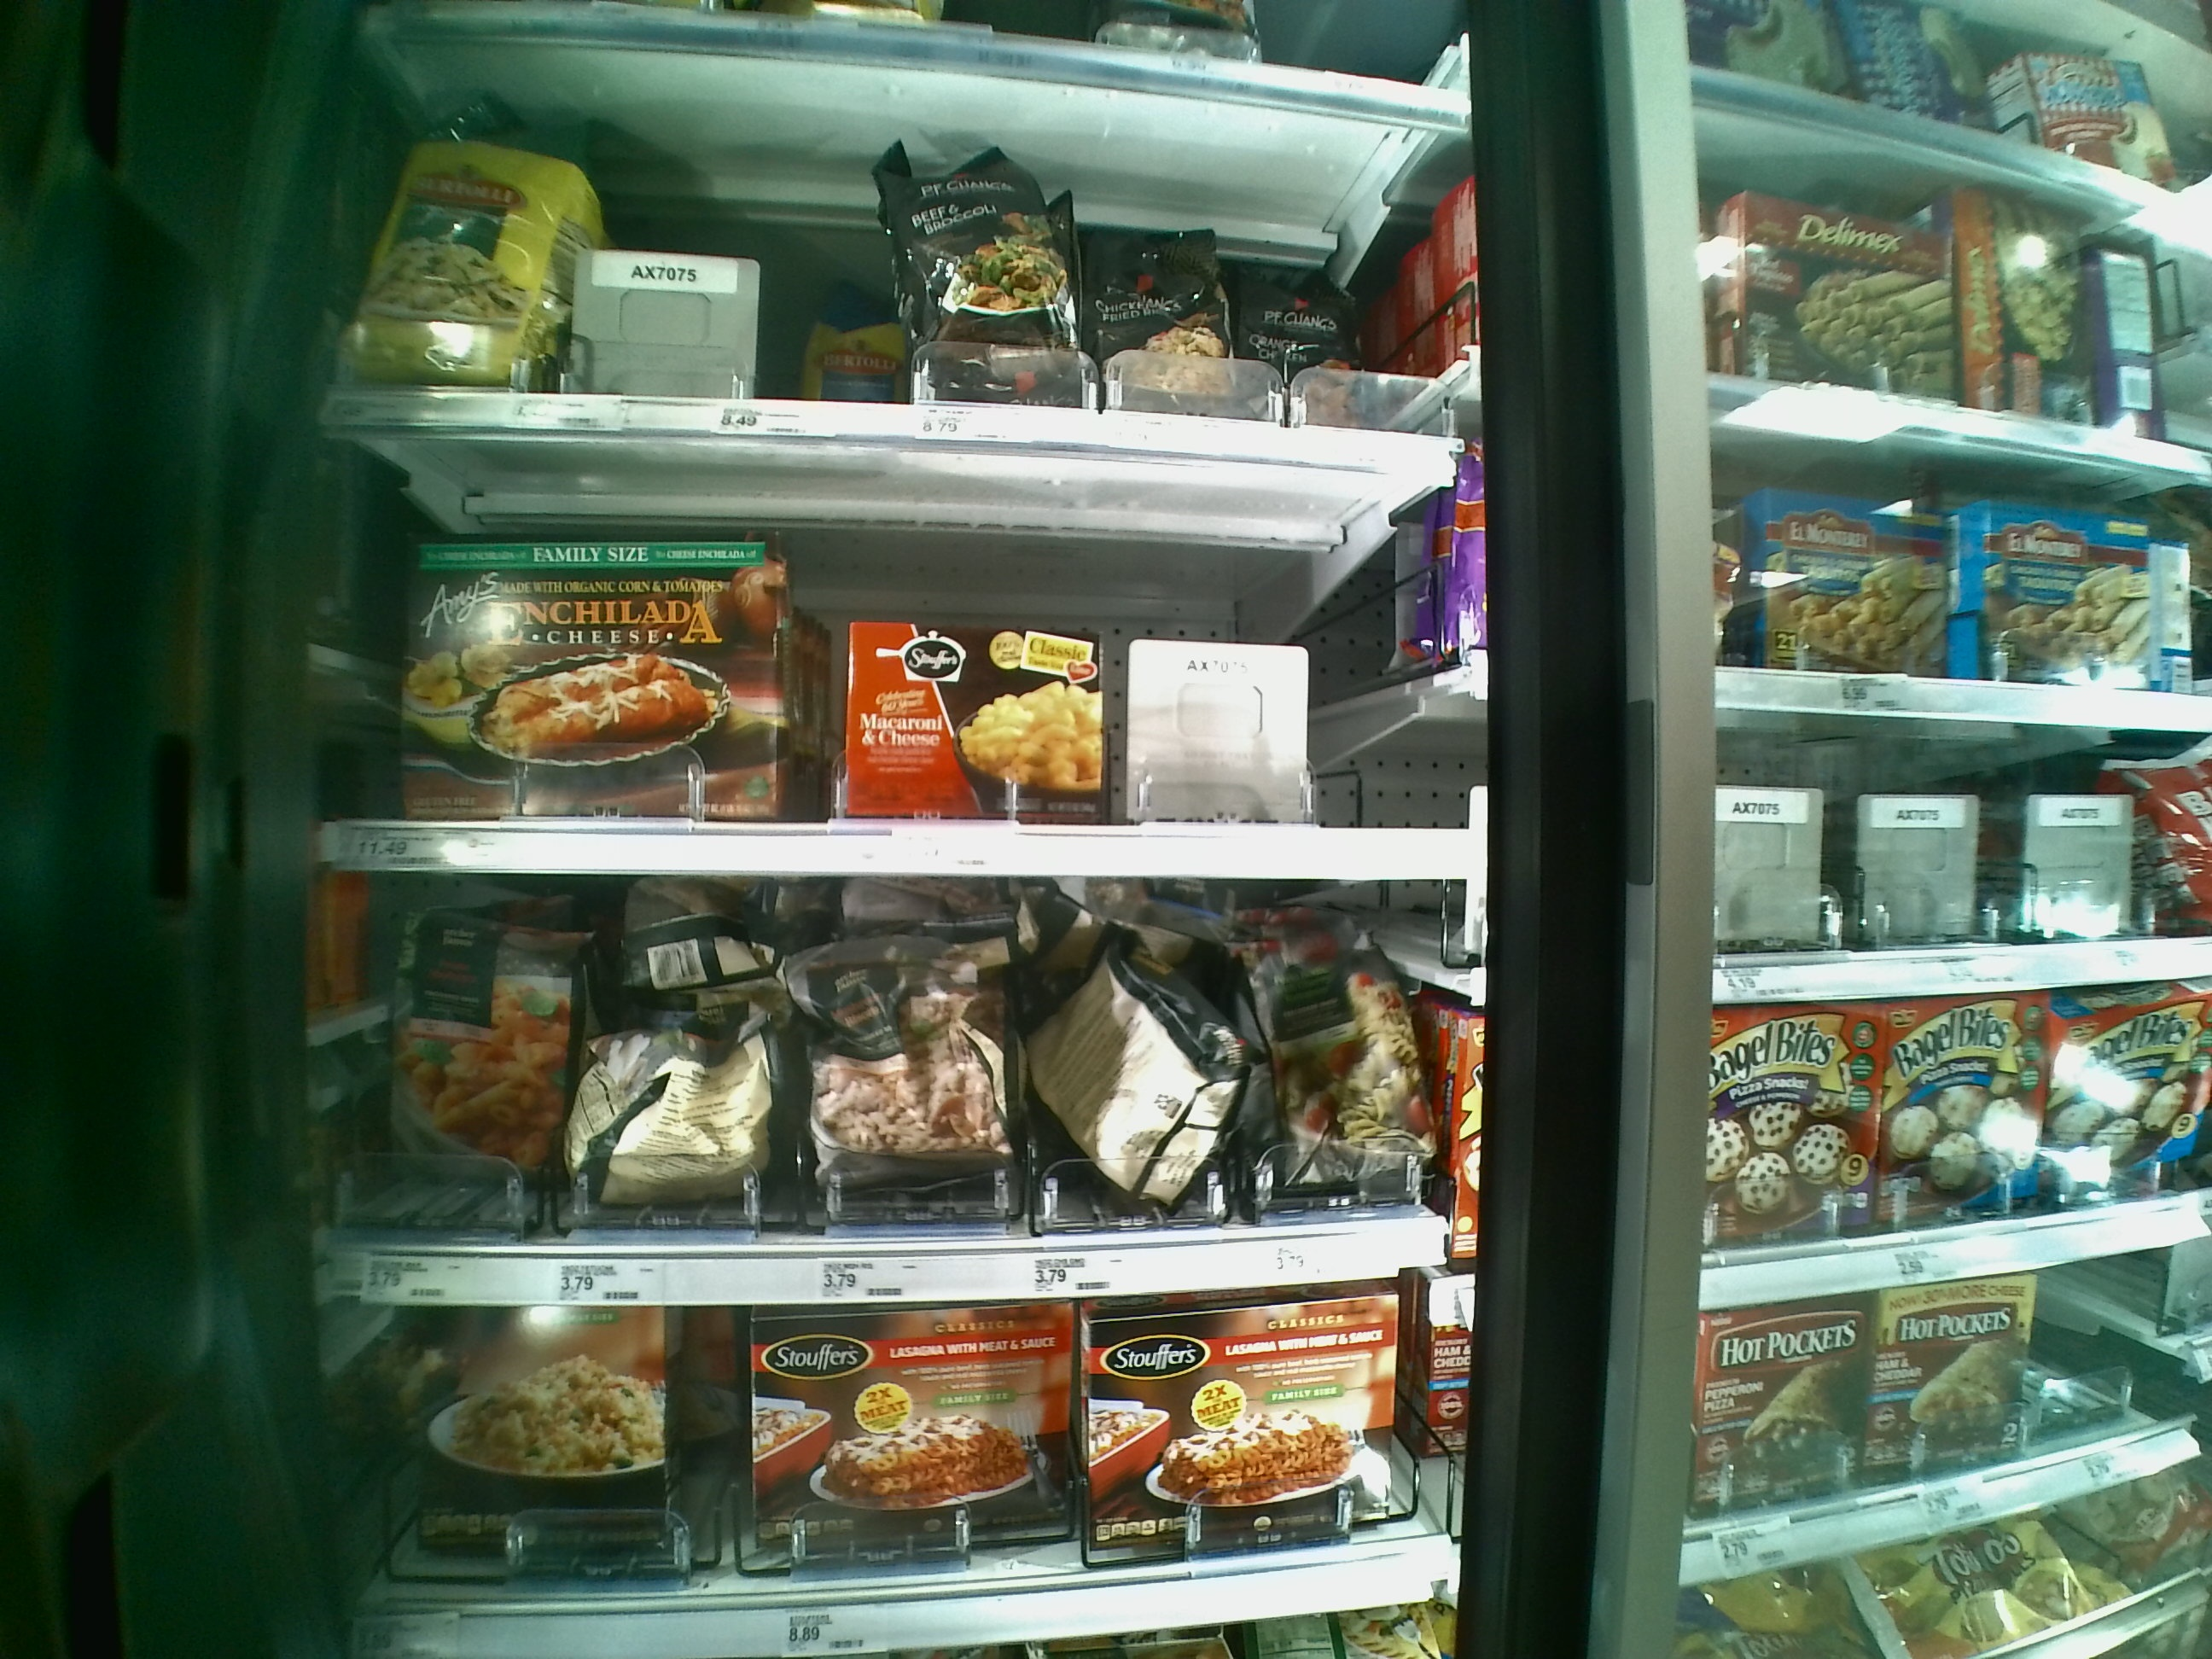shelf: (310, 465, 1463, 882), (322, 882, 1470, 1286), (338, 66, 1479, 472), (340, 1293, 1456, 1638)
